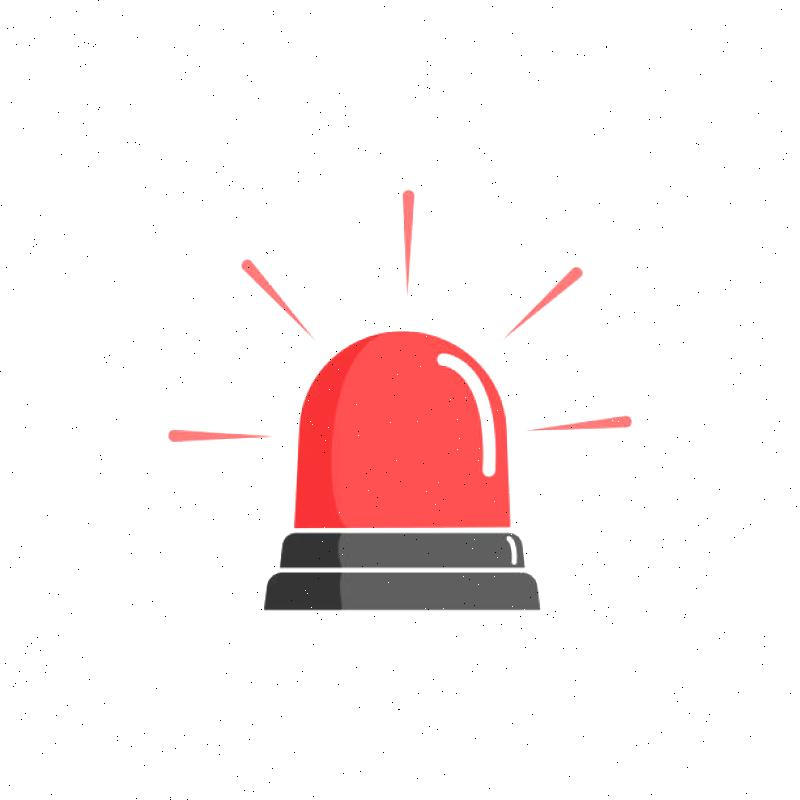AmbulanceSiren: (224, 303, 634, 641)
